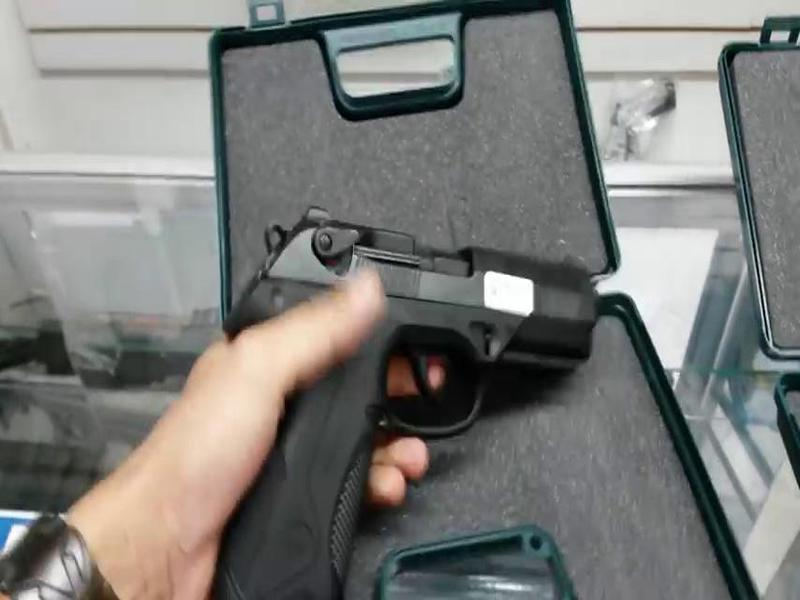Pistola: (137, 205, 621, 536)
